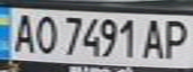1: (118, 16, 142, 58)
4: (78, 15, 103, 57)
7: (57, 14, 84, 56)
9: (100, 16, 121, 58)
A: (6, 10, 39, 54), (139, 16, 169, 60)
O: (30, 12, 60, 55)
P: (160, 17, 193, 61)
